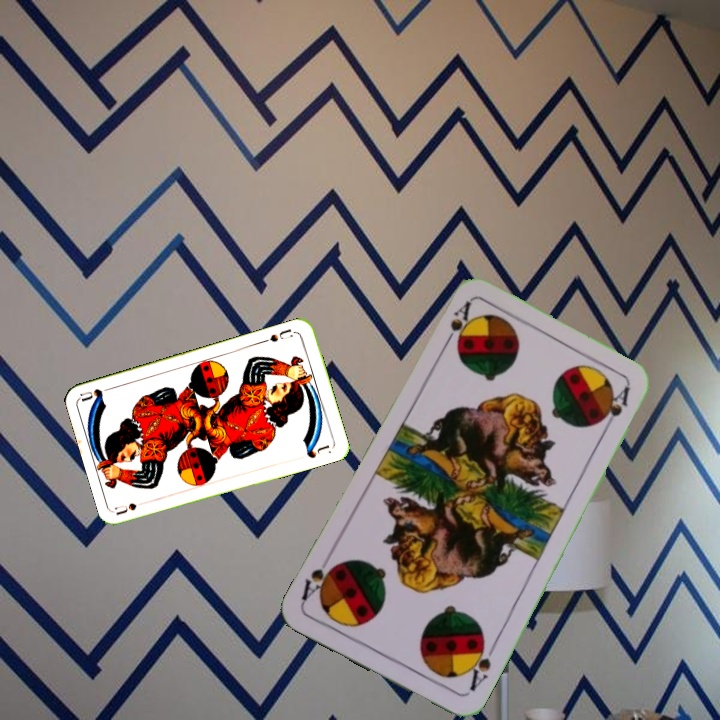SA: (461, 636, 498, 694), (438, 297, 474, 352)
SU: (112, 496, 153, 517), (259, 325, 299, 345)
